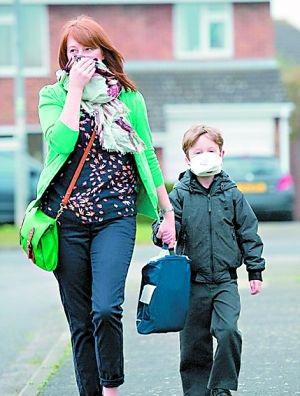OK: (66, 42, 100, 76), (191, 144, 220, 177)
